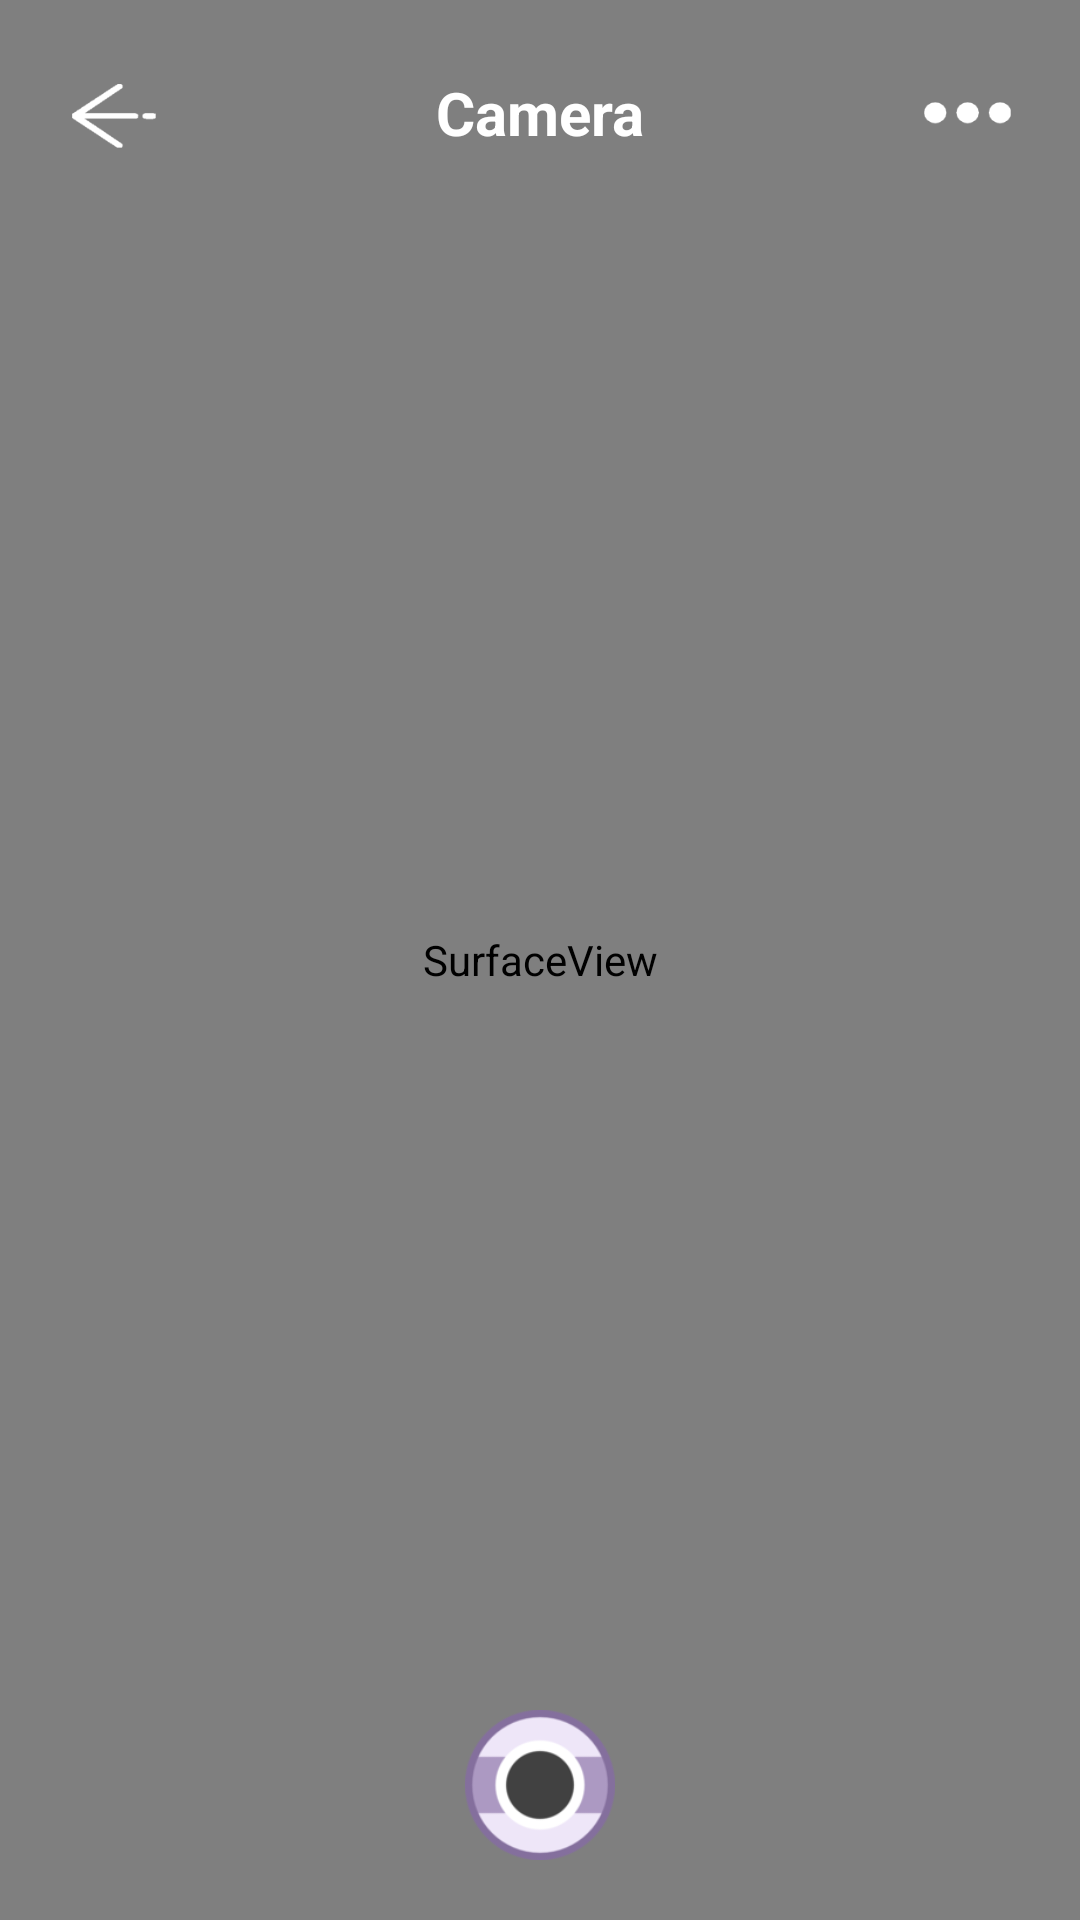

Icons on this 1080 x 1920 Android screen, each with its box as {"left": x1, "top": y1, "right": x2, "bottom": y2}:
camera getphoto nomal: {"left": 465, "top": 1710, "right": 615, "bottom": 1860}
